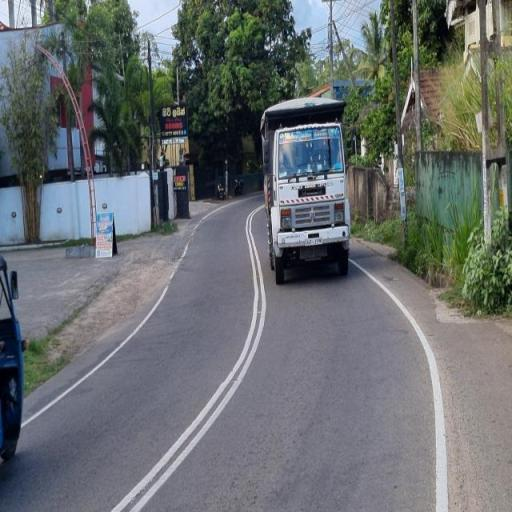double_white_line: (109, 205, 269, 511)
